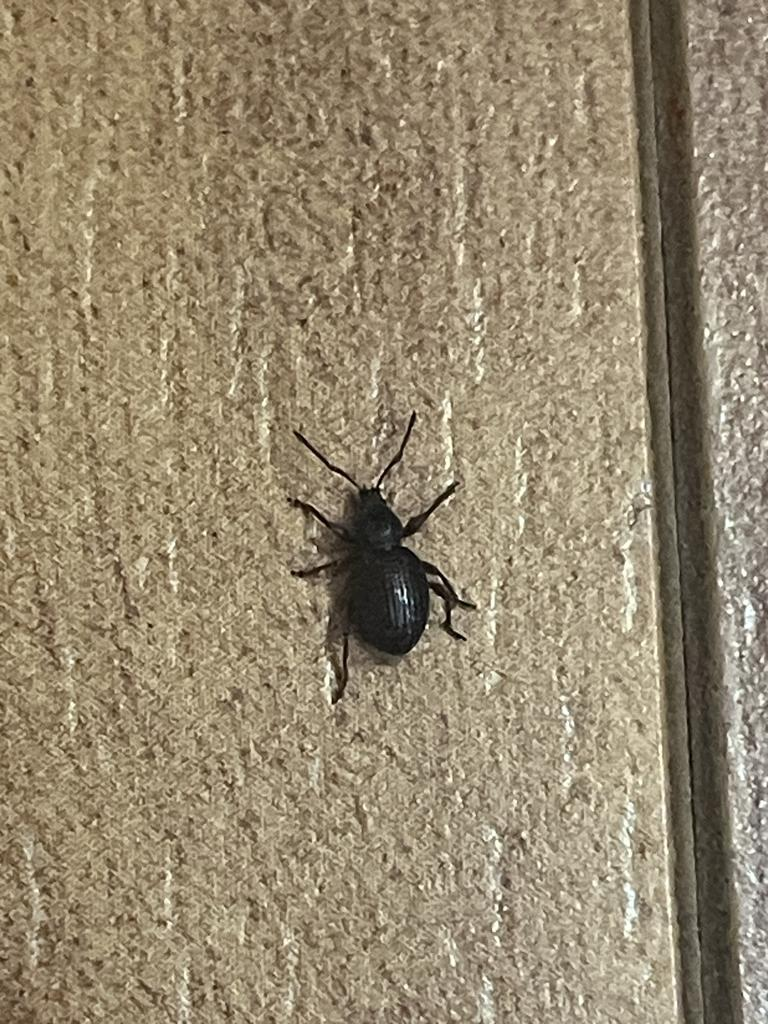weevils: (236, 379, 524, 711)
